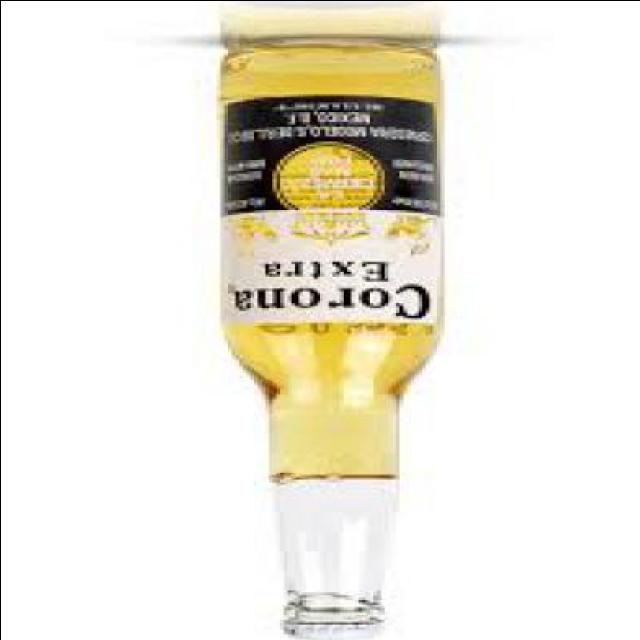kaca: (218, 44, 448, 625)
